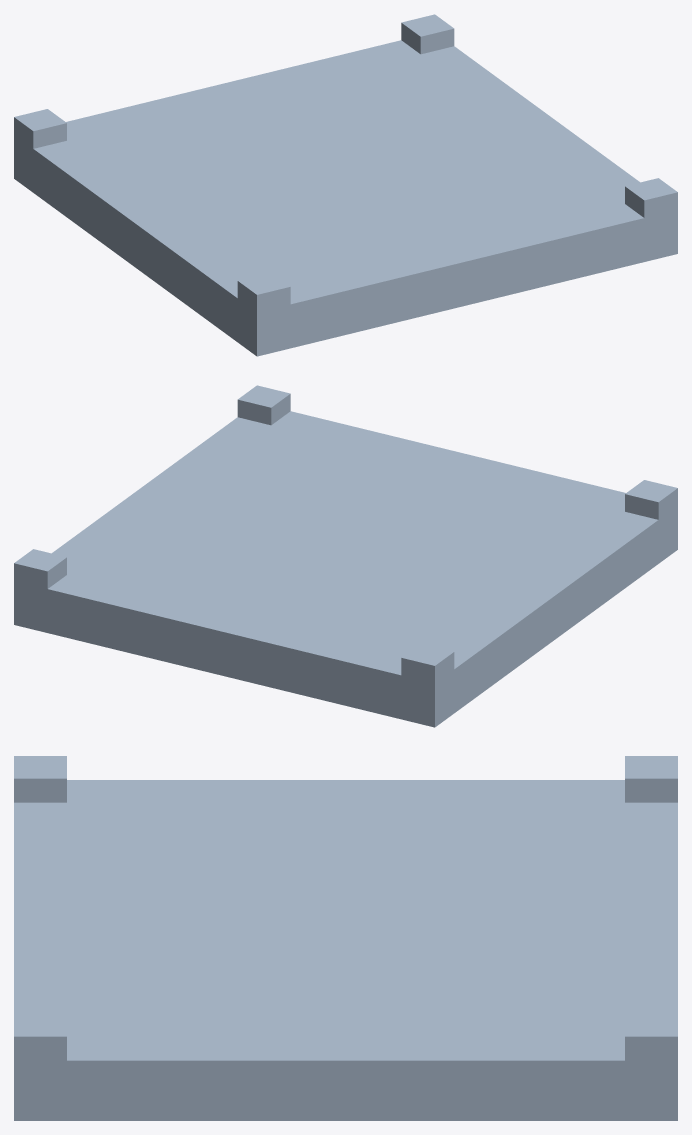
Rendered from 02_sample_blockout.glb.
3 renders of one model, top to bottom at view 1: azimuth 30°, elevation 25°; view 2: azimuth 150°, elevation 25°; view 3: azimuth 270°, elevation 25°, orthographic. The views are drawn at different scales.
Size of the model in its own units: 10 by 1.4 by 10.
